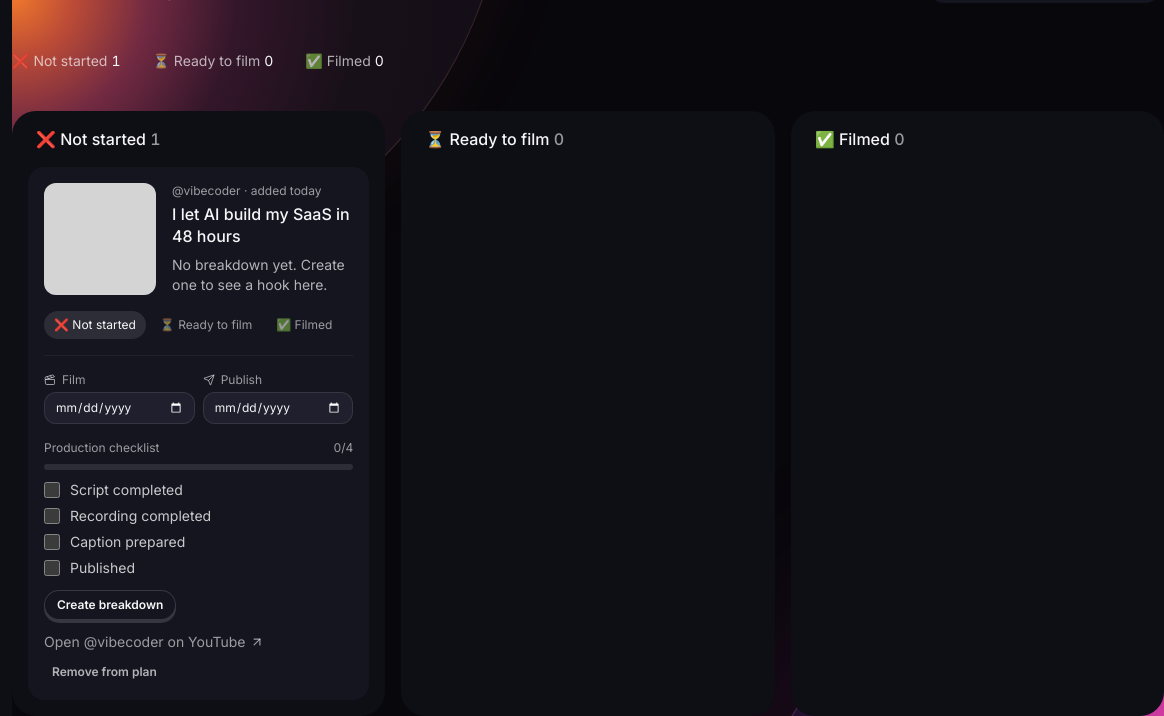
Test: bugs found while testing the running app › explains plainly when a planned Video has been removed from the library
(page scrolled)
Step 1. Click the button "Create breakdown" → [110, 605], box [44,590,176,620]
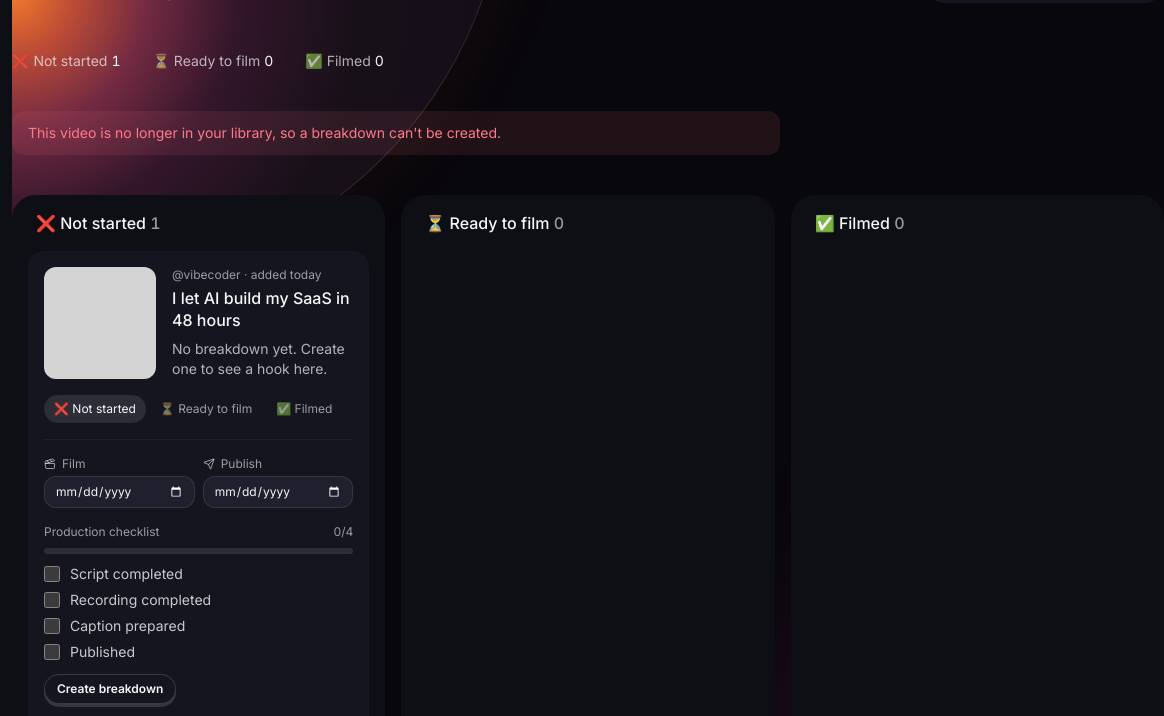
expect the text "no longer in your library" is shown: met, box [28,124,501,141]
